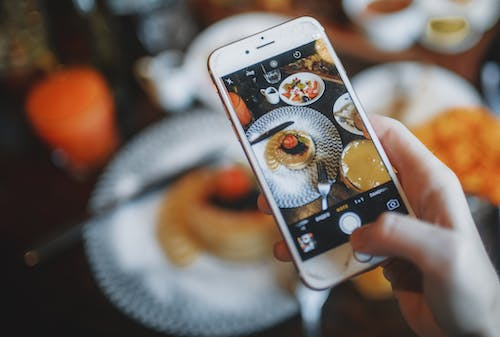knife: (249, 119, 296, 146)
